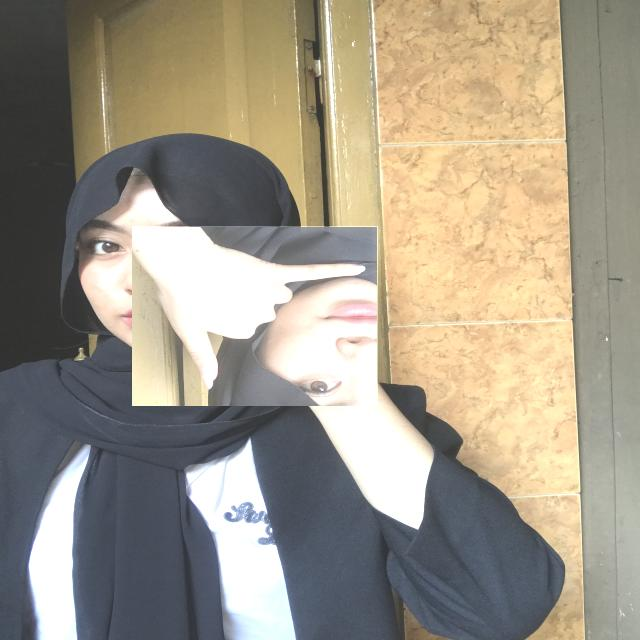telpon: (132, 226, 378, 406)
